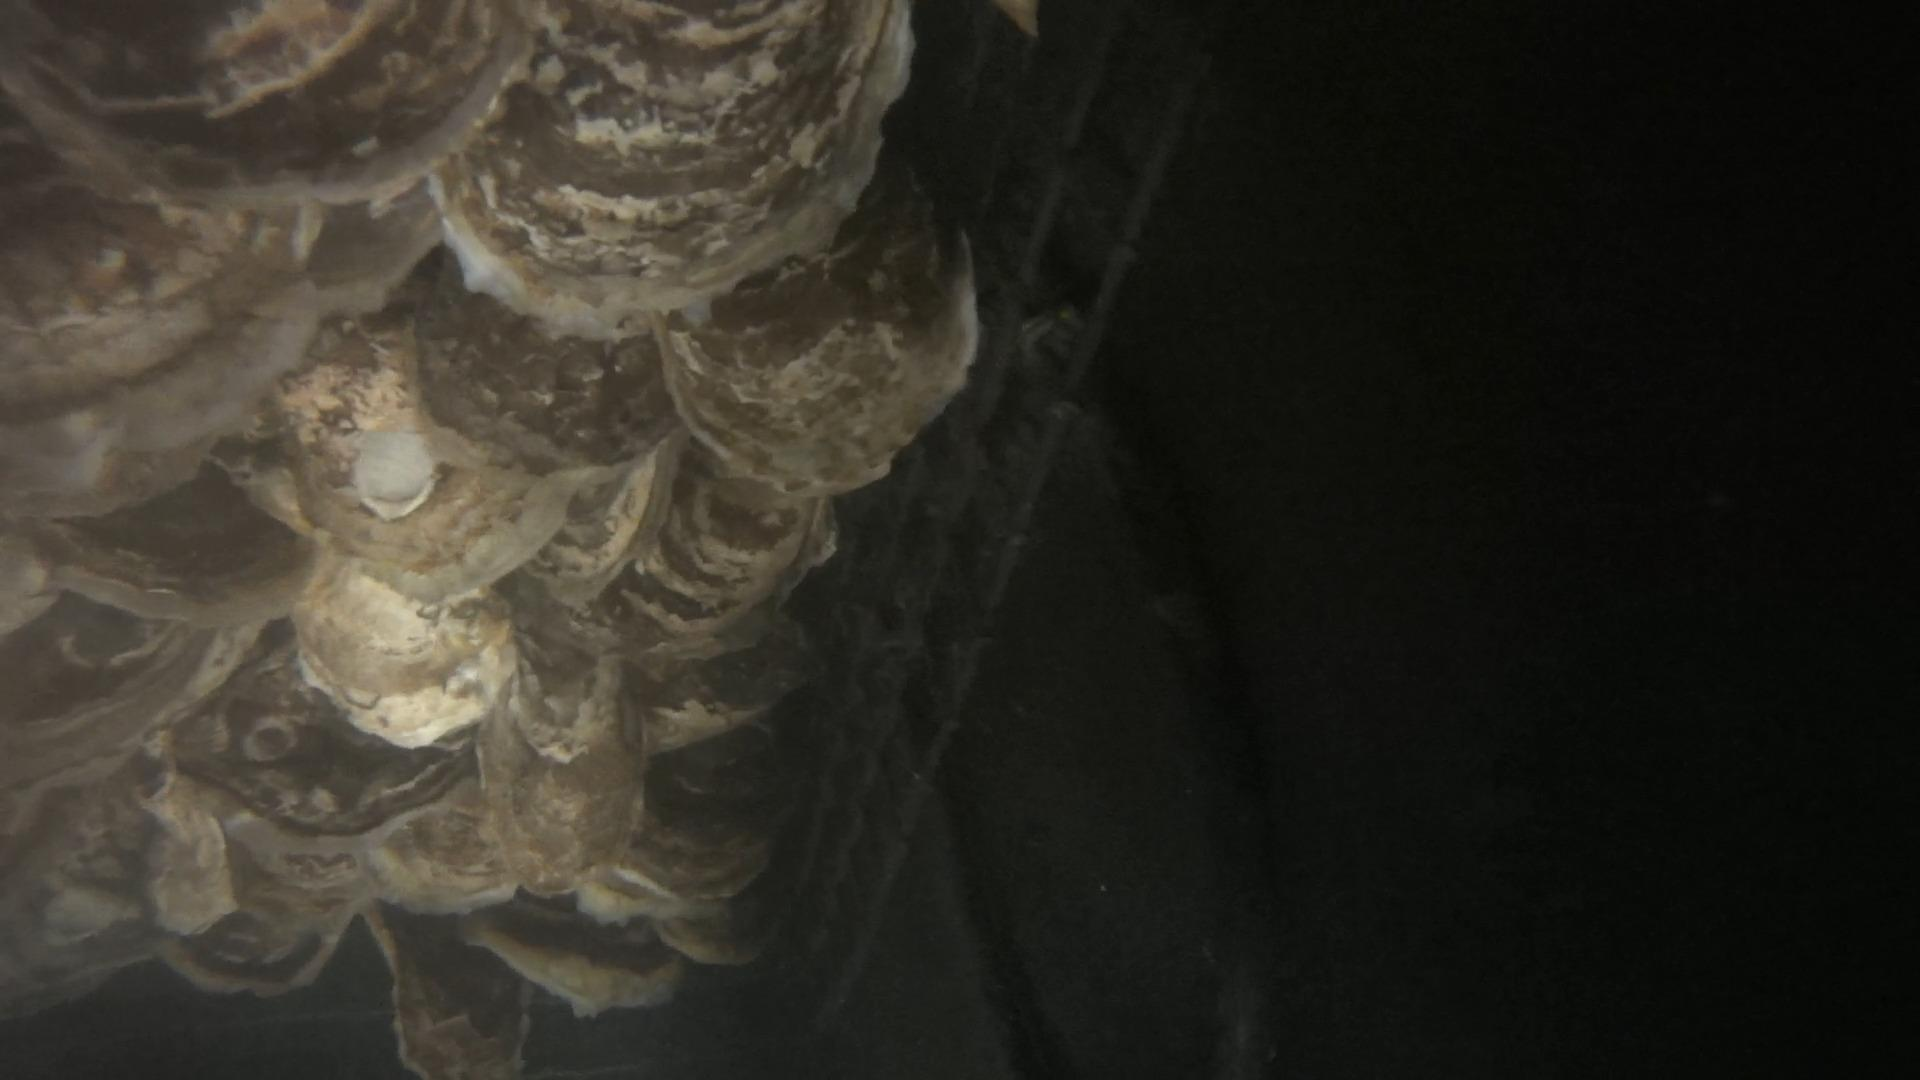3: (406, 248, 676, 473), (28, 463, 311, 628), (458, 897, 682, 1017)
Oyster- Indeterminate: (0, 94, 436, 514), (436, 0, 913, 334), (208, 309, 589, 601), (657, 161, 977, 495), (167, 621, 472, 858), (477, 571, 646, 894), (580, 442, 829, 654), (291, 553, 516, 748), (576, 723, 785, 922), (367, 775, 516, 914), (651, 895, 765, 965)
Oyster-Closed: (0, 0, 527, 200), (0, 592, 258, 787), (621, 593, 808, 752), (363, 905, 529, 1080), (524, 435, 679, 607)
